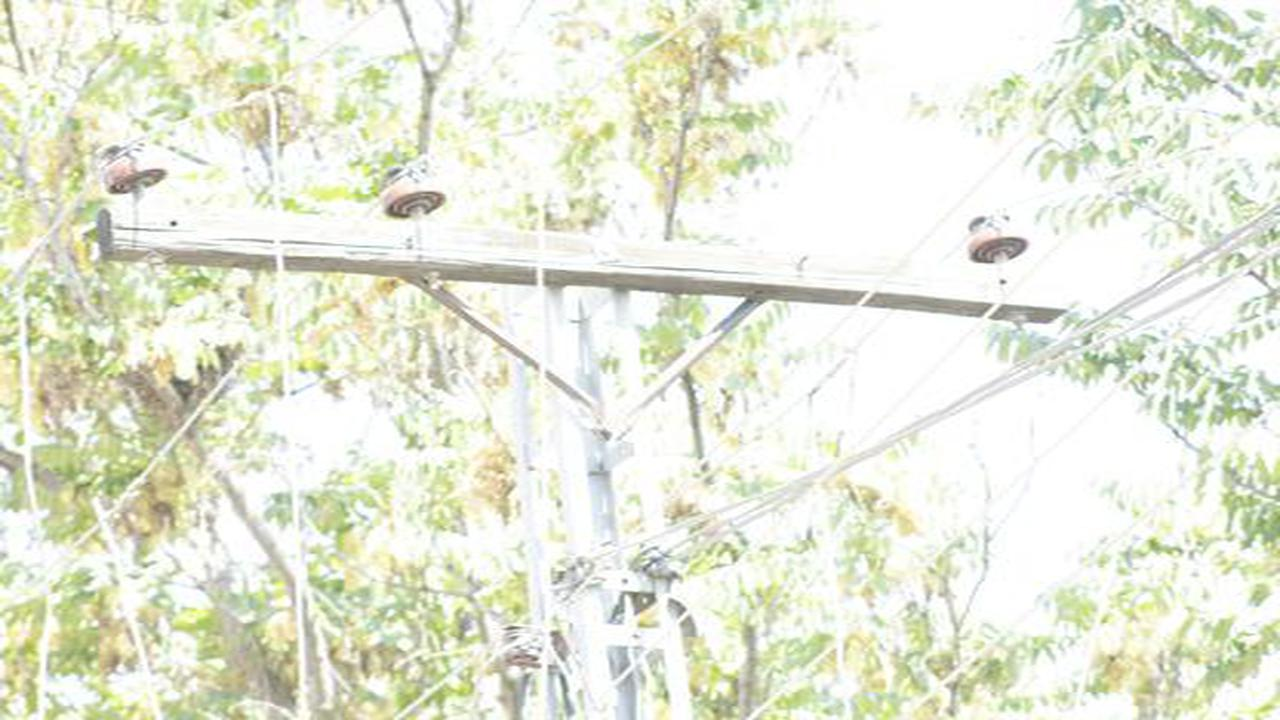insulator_pin: (963, 210, 1038, 273), (375, 159, 449, 222), (99, 135, 171, 192)
